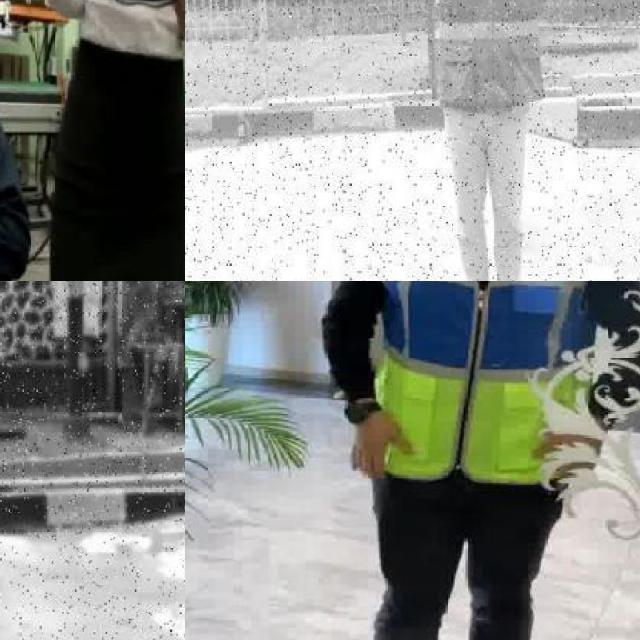apron: (0, 317, 10, 366)
